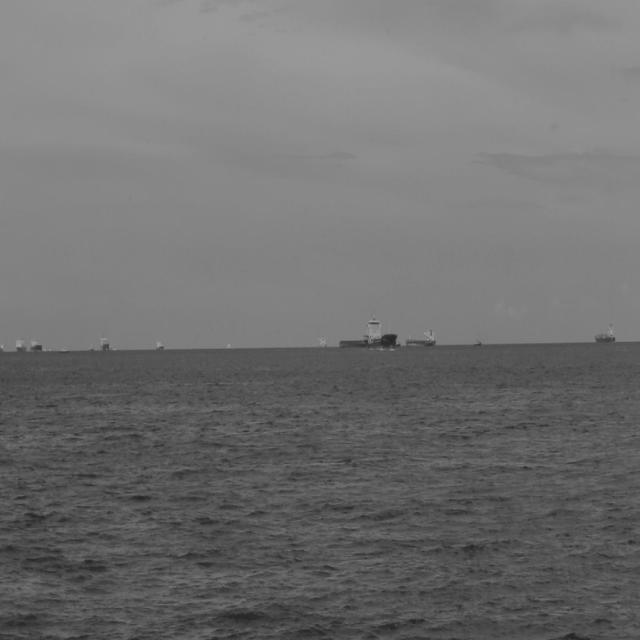ship: (338, 317, 398, 355), (403, 328, 439, 351), (594, 322, 618, 346), (14, 336, 28, 358), (29, 336, 42, 356), (100, 334, 110, 359), (154, 339, 168, 356)
